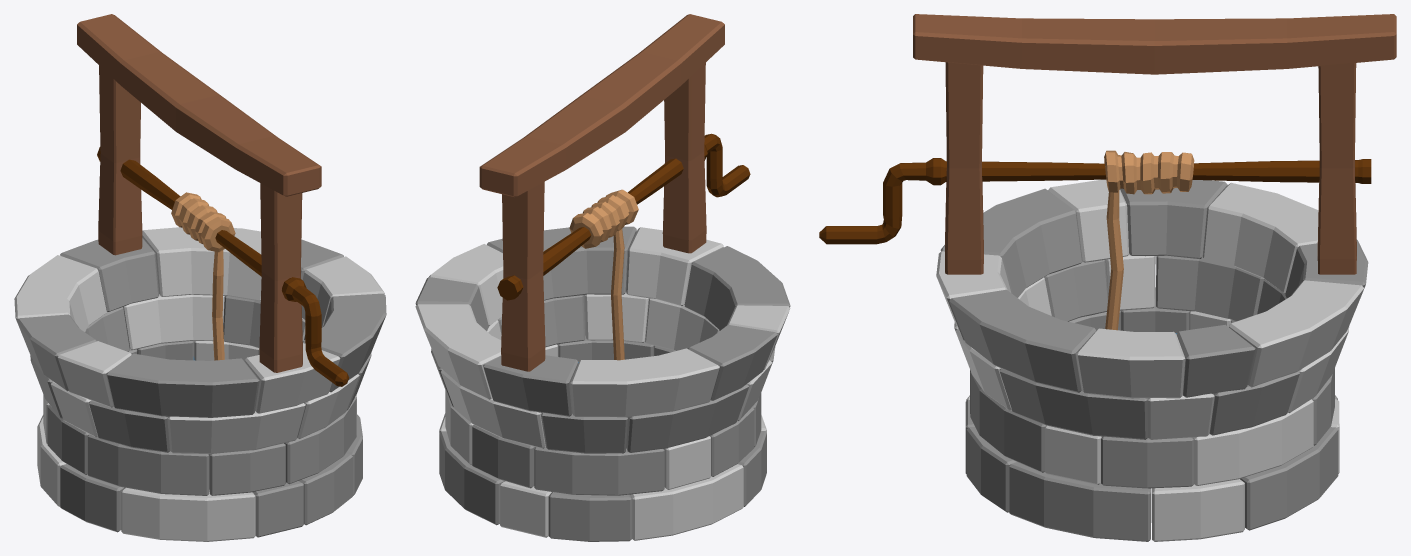
File: Well.fbx
3 views of the same model, side by side, from view 1: azimuth 30°, elevation 25°; view 2: azimuth 150°, elevation 25°; view 3: azimuth 270°, elevation 25° (orthographic). The views are drawn at different scales.
Visible parts, largest first — view 1: Well; view 2: Well; view 3: Well.
Part boxes in pixels (left/top/right/bottom): Well: left=14, top=14, right=386, bottom=541; Well: left=415, top=14, right=790, bottom=541; Well: left=819, top=14, right=1396, bottom=541.
Size of the model in its own units: 22.22 by 25.01 by 29.74.
